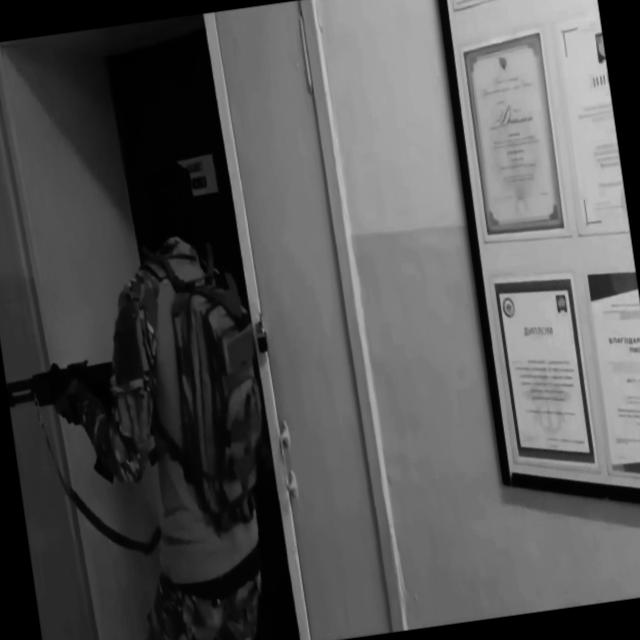gun: (5, 351, 132, 501)
person with a gun: (0, 144, 298, 640)
